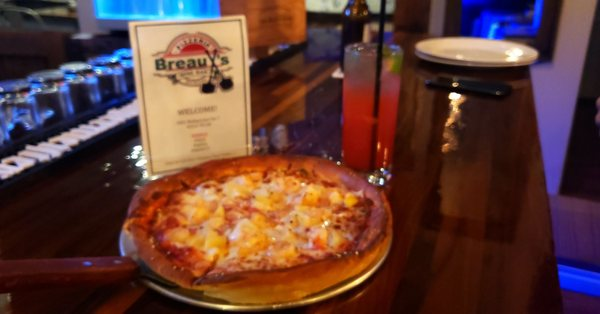pizza: (129, 16, 252, 178)
